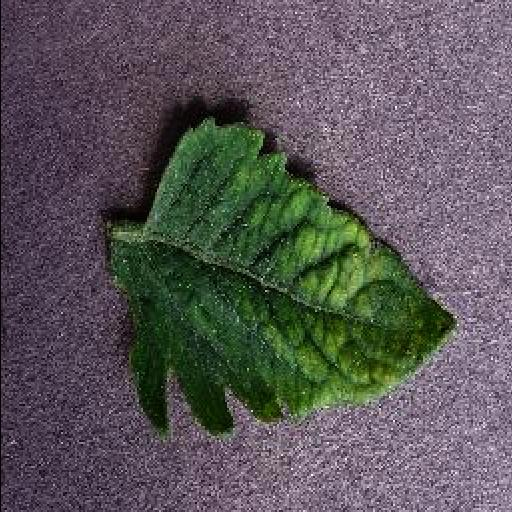Mosaic Virus: (112, 108, 460, 442)
